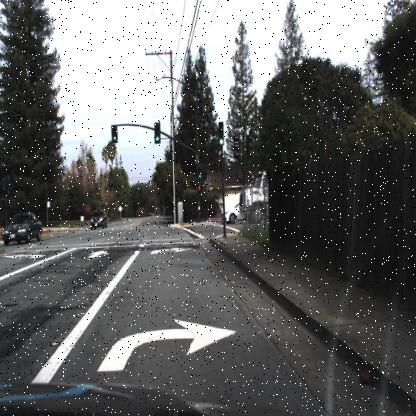car: (3, 212, 44, 246), (224, 202, 241, 224), (90, 210, 106, 230)
trafficLight-Green: (216, 116, 226, 151), (152, 120, 162, 146), (112, 121, 120, 144), (197, 160, 202, 184)
truck: (238, 175, 270, 224)
